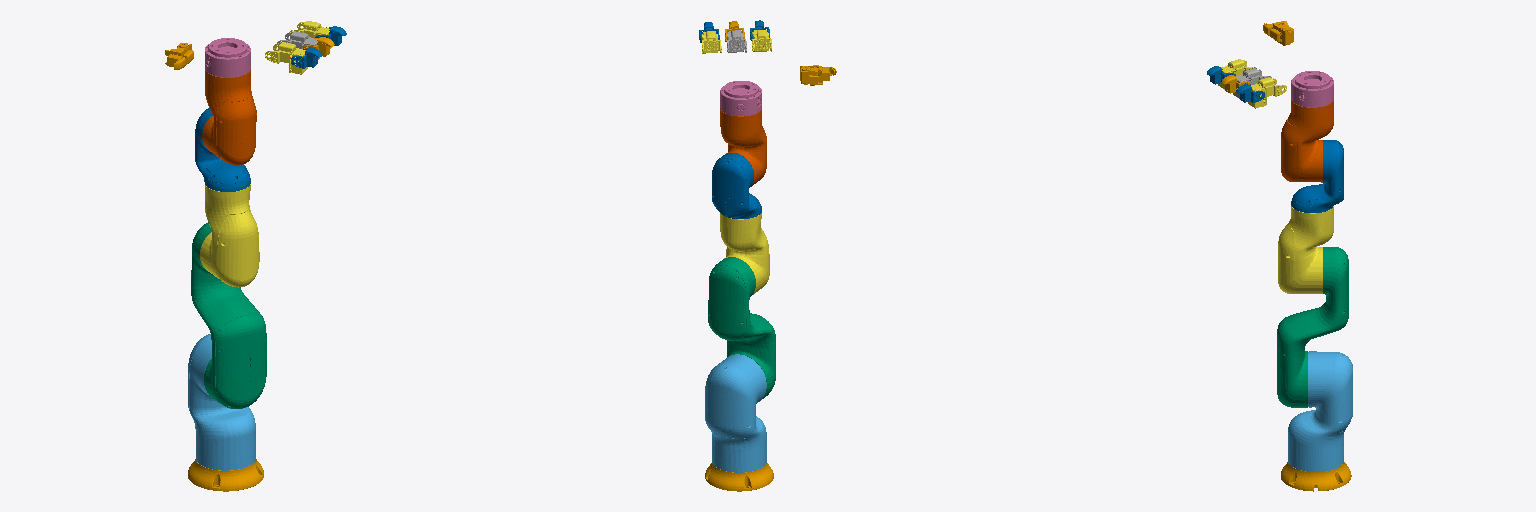
--- Render facts (derived) ---
Views: 3 orthographic renders of the robot side by side, from view 1: azimuth 30°, elevation 25°; view 2: azimuth 150°, elevation 25°; view 3: azimuth 270°, elevation 25°.
Model jakamini_leaphand with 33 links and 32 joints (22 revolute, 10 fixed), rooted at Link_0, posed every joint at zero.
Links seen in each view (by area): view 1: Link_2, Link_1, Link_3, Link_5, Link_4, Link_6, Link_0, dip, thumb_fingertip; view 2: Link_1, Link_2, Link_4, Link_3, Link_5, Link_6, Link_0, thumb_fingertip; view 3: Link_1, Link_2, Link_3, Link_5, Link_4, Link_6, Link_0, dip_3, thumb_fingertip.
Boxes of the visible links, left/top/right/bottom form: Link_2: left=191, top=222, right=266, bottom=408; Link_1: left=188, top=334, right=255, bottom=470; Link_3: left=200, top=184, right=259, bottom=287; Link_5: left=202, top=70, right=256, bottom=165; Link_4: left=195, top=108, right=250, bottom=191; Link_6: left=205, top=38, right=250, bottom=77; Link_0: left=188, top=459, right=263, bottom=491; dip: left=265, top=42, right=307, bottom=74; thumb_fingertip: left=165, top=43, right=193, bottom=69; Link_1: left=705, top=354, right=766, bottom=472; Link_2: left=708, top=257, right=775, bottom=398; Link_4: left=712, top=153, right=761, bottom=218; Link_3: left=720, top=213, right=769, bottom=294; Link_5: left=720, top=109, right=766, bottom=186; Link_6: left=720, top=81, right=761, bottom=115; Link_0: left=705, top=463, right=773, bottom=491; thumb_fingertip: left=800, top=65, right=836, bottom=85; Link_1: left=1288, top=351, right=1352, bottom=471; Link_2: left=1277, top=247, right=1348, bottom=407; Link_3: left=1278, top=206, right=1333, bottom=293; Link_5: left=1281, top=100, right=1333, bottom=182; Link_4: left=1291, top=140, right=1343, bottom=212; Link_6: left=1291, top=71, right=1333, bottom=107; Link_0: left=1281, top=462, right=1351, bottom=491; dip_3: left=1248, top=77, right=1286, bottom=108; thumb_fingertip: left=1263, top=21, right=1293, bottom=45.
Bounding box of the posed robot: 0.2972 × 0.2559 × 0.8152 m (x, y, z).
Meshes: 15 distinct files referenced, 14 mesh visuals loaded (7 binary STL, 3 OBJ); not drawn: 10 (reference not matched to a file when rendering).

URDF robot description (jakamini_leaphand):
<?xml version='1.0' encoding='UTF-8'?>
<robot name="jakamini_leaphand">
  <!-- jakamini -->
  <link name="Link_0">
    <inertial>
      <origin xyz="-0.000169872459617813 -2.36448827889745e-08 0.0132846923173683" rpy="0.0 0.0 0.0"/>
      <mass value="0.76174"/>
      <inertia ixx="0.000673719313504642" ixy="-1.30755705487849e-08" ixz="-1.3262407834936e-06" iyy="0.000666781851440875" iyz="-1.80735801539484e-11" izz="0.00123663316539255"/>
    </inertial>
    <visual>
      <geometry>
        <mesh filename="meshes/jaka/Link0.STL"/>
      </geometry>
      <material name="Link_0_material"/>
      <origin xyz="0.0 0.0 0.0" rpy="0.0 0.0 0.0"/>
    </visual>
    <collision>
      <geometry>
        <mesh filename="meshes/jaka/Link0.STL"/>
      </geometry>
      <origin xyz="0.0 0.0 0.0" rpy="0.0 0.0 0.0"/>
    </collision>
  </link>
  <link name="Link_1">
    <inertial>
      <origin xyz="-1.99985037409469e-06 0.0134079971540169 -0.061631393869219" rpy="0.0 0.0 0.0"/>
      <mass value="3.1571"/>
      <inertia ixx="0.0128375469787325" ixy="2.28361925094216e-07" ixz="5.81760635898215e-08" iyy="0.0126762000445666" iyz="-0.00161037595218336" izz="0.00390574573183596"/>
    </inertial>
    <visual>
      <geometry>
        <mesh filename="meshes/jaka/Link1.STL"/>
      </geometry>
      <material name="Link_1_material"/>
      <origin xyz="0.0 0.0 0.0" rpy="0.0 0.0 0.0"/>
    </visual>
    <collision>
      <geometry>
        <mesh filename="meshes/jaka/Link1.STL"/>
      </geometry>
      <origin xyz="0.0 0.0 0.0" rpy="0.0 0.0 0.0"/>
    </collision>
  </link>
  <link name="Link_2">
    <inertial>
      <origin xyz="0.090613 -1.3771e-06 0.0043964" rpy="0.0 0.0 0.0"/>
      <mass value="1.0141"/>
      <inertia ixx="0.0019174" ixy="6.2208e-07" ixz="0.0022687" iyy="0.0073149" iyz="-3.3214e-07" izz="0.0064681"/>
    </inertial>
    <visual>forearm_index
      <geometry>
        <mesh filename="meshes/jaka/Link2.STL"/>
      </geometry>
      <material name="Link_2_material"/>
      <origin xyz="0.0 0.0 0.0" rpy="0.0 0.0 0.0"/>
    </visual>
    <collision>
      <geometry>
        <mesh filename="meshes/jaka/Link2.STL"/>
      </geometry>
      <origin xyz="0.0 0.0 0.0" rpy="0.0 0.0 0.0"/>
    </collision>
  </link>
  <link name="Link_3">
    <inertial>
      <origin xyz="-2.836e-07 0.042086 0.012428" rpy="0.0 0.0 0.0"/>
      <mass value="2.018"/>
      <inertia ixx="0.0055107" ixy="2.2287e-08" ixz="-3.4784e-08" iyy="0.0017496" iyz="0.0005528" izz="0.0052708"/>
    </inertial>
    <visual>
      <geometry>
        <mesh filename="meshes/jaka/Link3.STL"/>
      </geometry>
      <material name="Link_3_material"/>
      <origin xyz="0.0 0.0 0.0" rpy="0.0 0.0 0.0"/>
    </visual>
    <collision>
      <geometry>
        <mesh filename="meshes/jaka/Link3.STL"/>
      </geometry>
      <origin xyz="0.0 0.0 0.0" rpy="0.0 0.0 0.0"/>
    </collision>
  </link>
  <link name="Link_4">
    <inertial>
      <origin xyz="-5.23366787087349e-06 0.025945911865393 -0.0349284126752025" rpy="0.0 0.0 0.0"/>
      <mass value="0.412340000009804"/>
      <inertia ixx="0.000648308078586465" ixy="2.01279577389176e-08" ixz="-2.91846428270101e-08" iyy="0.000622438484108618" iyz="-0.000147788635079694" izz="0.000313549566736677"/>
    </inertial>
    <visual>
      <geometry>
        <mesh filename="meshes/jaka/Link4.STL"/>
      </geometry>
      <material name="Link_4_material"/>
      <origin xyz="0.0 0.0 0.0" rpy="0.0 0.0 0.0"/>
    </visual>
    <collision>
      <geometry>
        <mesh filename="meshes/jaka/Link4.STL"/>
      </geometry>
      <origin xyz="0.0 0.0 0.0" rpy="0.0 0.0 0.0"/>
    </collision>
  </link>
  <link name="Link_5">
    <inertial>
      <origin xyz="8.7254e-06 0.044553 0.010268" rpy="0.0 0.0 0.0"/>
      <mass value="1.6793"/>
      <inertia ixx="0.0040718" ixy="4.0506e-07" ixz="1.0998e-07" iyy="0.0013014" iyz="0.00040116" izz="0.0039042"/>
    </inertial>
    <visual>
      <geometry>
        <mesh filename="meshes/jaka/Link5.STL"/>
      </geometry>
      <material name="Link_5_material"/>
      <origin xyz="0.0 0.0 0.0" rpy="0.0 0.0 0.0"/>
    </visual>
    <collision>
      <geometry>
        <mesh filename="meshes/jaka/Link5.STL"/>
      </geometry>
      <origin xyz="0.0 0.0 0.0" rpy="0.0 0.0 0.0"/>
    </collision>
  </link>
  <link name="Link_6">
    <inertial>
      <origin xyz="-2.33954680956047e-05 3.42676856690269e-05 -0.0202928698270544" rpy="0.0 0.0 0.0"/>
      <mass value="0.311970001247665"/>
      <inertia ixx="0.00014377819366" ixy="-8.50913479195225e-07" ixz="-2.37501745813128e-07" iyy="0.000142682702873271" iyz="-3.26920852568197e-08" izz="0.000221812602025683"/>
    </inertial>
    <visual>
      <geometry>
        <mesh filename="meshes/jaka/Link6.STL"/>
      </geometry>
      <material name="Link_6_material"/>
      <origin xyz="0.0 0.0 0.0" rpy="0.0 0.0 0.0"/>
    </visual>
    <collision>
      <geometry>
        <mesh filename="meshes/jaka/Link6.STL"/>
      </geometry>
      <origin xyz="0.0 0.0 0.0" rpy="0.0 0.0 0.0"/>
    </collision>
  </link>

  <joint name="joint_1" type="revolute">
    <limit effort="100.0" velocity="1.57" lower="-6.28" upper="6.28"/>
    <parent link="Link_0"/>
    <child link="Link_1"/>
    <axis xyz="0. 0. 1."/>
    <origin xyz="0.0 0.0 0.187" rpy="0.0 0.0 0.0"/>
  </joint>
  <joint name="joint_2" type="revolute">
    <limit effort="100.0" velocity="1.57" lower="-2.09" upper="2.09"/>
    <parent link="Link_1"/>
    <child link="Link_2"/>
    <axis xyz="0. 0. 1."/>
    <origin xyz="0.0 -0.006 0.0" rpy="-1.5707926535897934 -1.5707926535755432 -3.141592653589793"/>
  </joint>
  <joint name="joint_3" type="revolute">
    <limit effort="100.0" velocity="1.57" lower="-2.27" upper="2.27"/>
    <parent link="Link_2"/>
    <child link="Link_3"/>
    <axis xyz="0. 0. 1."/>
    <origin xyz="0.21 0.0 0.0" rpy="0.0 0.0 -1.5708"/>
  </joint>
  <joint name="joint_4" type="revolute">
    <limit effort="100.0" velocity="1.57" lower="-6.28" upper="6.28"/>
    <parent link="Link_3"/>
    <child link="Link_4"/>
    <axis xyz="0. 0. 1."/>
    <origin xyz="0.0 0.2105 0.0" rpy="-1.5708 0.0 0.0"/>
  </joint>
  <joint name="joint_5" type="revolute">
    <limit effort="100.0" velocity="1.57" lower="-2.09" upper="2.09"/>
    <parent link="Link_4"/>
    <child link="Link_5"/>
    <axis xyz="0. 0. 1."/>
    <origin xyz="0.0 0.0 0.0" rpy="1.5708 0.0 0.0"/>
  </joint>
  <joint name="joint_6" type="revolute">
    <limit effort="100.0" velocity="1.57" lower="-6.28" upper="6.28"/>
    <parent link="Link_5"/>
    <child link="Link_6"/>
    <axis xyz="0. 0. 1."/>
    <origin xyz="0.0 0.1593 0.0" rpy="-1.5708 0.0 0.0"/>
  </joint>

  <!-- leaphand -->
  <link name="base"/>
  <joint name="base_joint" type="fixed">
    <parent link="base"/>
    <child link="palm_lower"/>
    <origin xyz="0.01 0.038 0.058" rpy="0 -1.57079 0"/>
  </joint>

   <!-- <link name="thumb_base"/>
  <joint name="thumb_base_joint" type="fixed">
    <parent link="base"/>
    <child link="thumb_base"/>
    <origin xyz="0 0.037 0.015" rpy="0 0 0"/>
  </joint>

  <link name="index_base"/>
  <joint name="index_base_joint" type="fixed">
    <parent link="base"/>
    <child link="index_base"/>
    <origin xyz="0 0.045 0.09" rpy="0 0 0"/>
  </joint>

  <link name="middle_base"/>
  <joint name="middle_base_joint" type="fixed">
    <parent link="base"/>
    <child link="middle_base"/>
    <origin xyz="0 -0.0 0.09" rpy="0 0 0"/>
  </joint>

  <link name="ring_base"/>
  <joint name="ring_base_joint" type="fixed">
    <parent link="base"/>
    <child link="ring_base"/>
    <origin xyz="0 -0.045 0.09" rpy="0 0 0"/>
  </joint> -->

  <link name="palm_lower">
    <visual>
      <origin xyz="-0.0200 0.02575 -0.0347" rpy="0 0 0"/>
      <geometry>
        <mesh filename="meshes/leap/visual/palm_lower.obj"/>
      </geometry>
    </visual>
    <collision>     <!-- palm_lower -->
      <origin xyz="-0.009 0.009 -0.011" rpy="0 0 0"/>
      <geometry>
        <box size="0.022 0.026 0.034"/>
      </geometry>
    </collision>
    <collision>
      <origin xyz="-0.009 -0.036 -0.011" rpy="0 0 0"/>
      <geometry>
        <box size="0.022 0.026 0.034"/>
      </geometry>
    </collision>
    <collision>
      <origin xyz="-0.009 -0.081 -0.011" rpy="0 0 0"/>
      <geometry>
        <box size="0.022 0.026 0.034"/>
      </geometry>
    </collision>
    <collision>
      <origin xyz="-0.066 -0.078 -0.0115" rpy="0 0 -0.2967"/>
      <geometry>
        <box size="0.058 0.02 0.046"/>
      </geometry>
    </collision>
    <collision>
      <origin xyz="-0.03 -0.035 -0.003" rpy="0 0 0"/>
      <geometry>
        <box size="0.02 0.12 0.03"/>
      </geometry>
    </collision>
    <collision>
      <origin xyz="-0.032 -0.035 -0.024" rpy="0 0.785 0"/>
      <geometry>
        <box size="0.01 0.12 0.02"/>
      </geometry>
    </collision>
    <collision>
      <origin xyz="-0.048 -0.033 -0.0115" rpy="0 0 0"/>
      <geometry>
        <box size="0.024 0.116 0.046"/>
      </geometry>
    </collision>
    <collision>
      <origin xyz="-0.078 -0.053 -0.0115" rpy="0 0 0"/>
      <geometry>
        <box size="0.044 0.052 0.046"/>
      </geometry>
    </collision>
    <collision>
      <origin xyz="-0.098 -0.009 -0.006" rpy="0 0 0"/>
      <geometry>
        <box size="0.004 0.036 0.034"/>
      </geometry>
    </collision>
    <collision>
      <origin xyz="-0.078 -0.003 0.01" rpy="0 0 0"/>
      <geometry>
        <box size="0.044 0.056 0.004"/>
      </geometry>
    </collision>
    <inertial>
      <origin xyz="0 0 0" rpy="0 0 0"/>
      <mass value="0.237"/>
      <inertia ixx="0.000354094" ixy="-0.000001193" ixz="-0.000002445" iyy="0.000260915" iyz="-0.000002905" izz="0.000529257"/>
    </inertial>
  </link>
  <link name="mcp_joint">
    <visual>
      <origin xyz="0.0084 0.0077 0.01465" rpy="0 0 0"/>
      <geometry>
        <mesh filename="meshes/leap/visual/mcp_joint.obj"/>
      </geometry>
    </visual>
    <collision>      <!-- mcp_joint -->
      <origin xyz="0 0.018 0.0147" rpy="0 0 0"/>
      <geometry>
        <box size="0.02 0.006 0.034"/>
      </geometry>
    </collision>
    <collision>
      <origin xyz="-0.027 0.042 0.015" rpy="0 0 0"/>
      <geometry>
        <box size="0.028 0.04 0.02"/>
      </geometry>
    </collision>
    <collision>
      <origin xyz="-0.0262 0.02 0.0146" rpy="0 0 0"/>
      <geometry>
        <box size="0.034 0.006 0.02"/>
      </geometry>
    </collision>
    <collision>
      <origin xyz="-0.0295 0.035 0.029" rpy="0 0 0"/>
      <geometry>
        <box size="0.02 0.024 0.008"/>
      </geometry>
    </collision>
    <collision>
      <origin xyz="0 0.005 0.03" rpy="0 0 0"/>
      <geometry>
        <box size="0.014 0.02 0.004"/>
      </geometry>
    </collision>
    <collision>
      <origin xyz="0 0.005 -0.001" rpy="0 0 0"/>
      <geometry>
        <box size="0.014 0.02 0.004"/>
      </geometry>
    </collision>
    <inertial>
      <origin xyz="0 0 0" rpy="0 0 0"/>
      <mass value="0.044"/>
      <inertia ixx="0.000011499" ixy="0.000003049" ixz="0.000000121" iyy="0.000007796" iyz="0.000000112" izz="0.000014759"/>
    </inertial>
  </link>
  <link name="pip">
    <visual>
      <origin xyz="0.0096 0.0002 0.0007" rpy="-1.57079 -1.57079 0"/>
      <geometry>
        <mesh filename="meshes/leap/visual/pip.obj"/>
      </geometry>
    </visual>
    <collision>     <!-- pip -->
      <origin xyz="0.0075 -0.0002 -0.011" rpy="0 0 0"/>
      <geometry>
        <box size="0.034 0.026 0.022"/>
      </geometry>
    </collision>
    <inertial>
      <origin xyz="0 0 0" rpy="0 0 0"/>
      <mass value="0.032"/>
      <inertia ixx="0.000004798" ixy="0.000000012" ixz="0.000000004" iyy="0.000002862" iyz="0.000000011" izz="0.000004234"/>
    </inertial>
  </link>
  <link name="dip">
    <visual>
      <origin xyz="0.0211 -0.0084 0.0097" rpy="-3.1415926 0 0"/>
      <geometry>
        <mesh filename="meshes/leap/visual/dip_new_convex.obj"/>
      </geometry>
    </visual>
    <collision>     <!-- dip -->
      <origin xyz="0 -0.02 0.015" rpy="0 0 0"/>
      <geometry>
        <box size="0.016 0.006 0.026"/>
      </geometry>
    </collision>
    <collision>
      <origin xyz="0 -0.016 0.015" rpy="0 0 0"/>
      <geometry>
        <box size="0.02 0.004 0.034"/>
      </geometry>
    </collision>
    <collision>
      <origin xyz="0 -0.0045 0.03" rpy="0 0 0"/>
      <geometry>
        <box size="0.014 0.02 0.004"/>
      </geometry>
    </collision>
    <collision>
      <origin xyz="0 -0.0045 0" rpy="0 0 0"/>
      <geometry>
        <box size="0.014 0.02 0.004"/>
      </geometry>
    </collision>
    <collision>
      <origin xyz="0.0075 -0.035 0.015" rpy="0 0 0"/>
      <geometry>
        <box size="0.034 0.022 0.026"/>
      </geometry>
    </collision>
    <inertial>
      <origin xyz="0 0 0" rpy="0 0 0"/>
      <mass value="0.037"/>
      <inertia ixx="0.000005542" ixy="-0.000000607" ixz="-0.000000017" iyy="0.000005727" iyz="-0.000000023" izz="0.000006682"/>
    </inertial>
  </link>
  <link name="fingertip">
    <visual>
      <origin xyz="0.0132 -0.0061 0.0144" rpy="3.1415926 0 0"/>
      <geometry>
        <mesh filename="meshes/leap/visual/fingertip_new_convex.obj"/>
      </geometry>
    </visual>
    <collision>     <!-- fingertip -->
      <origin xyz="0.0132 -0.0061 0.0144" rpy="3.1415926 0 0"/>
      <geometry>
        <mesh filename="meshes/leap/visual/fingertip_new_convex.obj"/>
      </geometry>
    </collision>
    <!-- <collision>
      <origin xyz="0 -0.006 0.03" rpy="0 0 0"/>
      <geometry>
        <box size="0.014 0.022 0.004"/>
      </geometry>
    </collision>
    <collision>
      <origin xyz="0 -0.006 -0.001" rpy="0 0 0"/>
      <geometry>
        <box size="0.014 0.022 0.004"/>
      </geometry>
    </collision>
    <collision>
      <origin xyz="0 0 0" rpy="0 0 0"/>
      <geometry>
        <mesh filename="meshes/leap/collision/white_tip.obj"/>
      </geometry>
    </collision> -->
    <inertial>
      <origin xyz="0 0 0" rpy="0 0 0"/>
      <mass value="0.016"/>
      <inertia ixx="0.000003368" ixy="0.000000115" ixz="0" iyy="0.000001556" iyz="0" izz="0.000002863"/>
    </inertial>
  </link>

  <joint name="0" type="revolute">
    <origin xyz="-0.0070 0.0230 -0.0187" rpy="1.57079 1.57079 0"/>
    <parent link="palm_lower"/>
    <child link="mcp_joint"/>
    <axis xyz="0 0 -1"/>
    <limit effort="0.95" velocity="8.48" lower="-0.314" upper="2.23"/>
    <joint_properties friction="0.0"/>
  </joint>
  <joint name="1" type="revolute">
    <origin xyz="-0.0122 0.03810 0.01450" rpy="-1.57079 0 1.57079"/>
    <parent link="mcp_joint"/>
    <child link="pip"/>
    <axis xyz="0 0 -1"/>
    <limit effort="0.95" velocity="8.48" lower="-1.047" upper="1.047"/>
    <joint_properties friction="0.0"/>
  </joint>
  <joint name="2" type="revolute">
    <origin xyz="0.015 0.0143 -0.013" rpy="1.57079 -1.57079 0"/>
    <parent link="pip"/>
    <child link="dip"/>
    <axis xyz="0 0 -1"/>
    <limit effort="0.95" velocity="8.48" lower="-0.506" upper="1.3"/> <!-- temporal fix because can collide with part and cause tactile false read -->
    <joint_properties friction="0.0"/>
  </joint>
  <joint name="3" type="revolute">
    <origin xyz="0 -0.0461 0.0002" rpy="0 0 0"/>
    <parent link="dip"/>
    <child link="fingertip"/>
    <axis xyz="0 0 -1"/>
    <limit effort="0.95" velocity="8.48" lower="-0.366" upper="2.042"/>
    <joint_properties friction="0.0"/>
  </joint>

  <link name="mcp_joint_2">
    <visual>
      <origin xyz="0.0084 0.0077 0.01465" rpy="0 0 0"/>
      <geometry>
        <mesh filename="meshes/leap/visual/mcp_joint.obj"/>
      </geometry>
    </visual>
    <collision>      <!-- mcp_joint -->
      <origin xyz="0 0.018 0.0147" rpy="0 0 0"/>
      <geometry>
        <box size="0.02 0.006 0.034"/>
      </geometry>
    </collision>
    <collision>
      <origin xyz="-0.027 0.042 0.015" rpy="0 0 0"/>
      <geometry>
        <box size="0.028 0.04 0.02"/>
      </geometry>
    </collision>
    <collision>
      <origin xyz="-0.0262 0.02 0.0146" rpy="0 0 0"/>
      <geometry>
        <box size="0.034 0.006 0.02"/>
      </geometry>
    </collision>
    <collision>
      <origin xyz="-0.0295 0.035 0.029" rpy="0 0 0"/>
      <geometry>
        <box size="0.02 0.024 0.008"/>
      </geometry>
    </collision>
    <collision>
      <origin xyz="0 0.005 0.03" rpy="0 0 0"/>
      <geometry>
        <box size="0.014 0.02 0.004"/>
      </geometry>
    </collision>
    <collision>
      <origin xyz="0 0.005 -0.001" rpy="0 0 0"/>
      <geometry>
        <box size="0.014 0.02 0.004"/>
      </geometry>
    </collision>
    <inertial>
      <origin xyz="0 0 0" rpy="0 0 0"/>
      <mass value="0.044"/>
      <inertia ixx="0.000011499" ixy="0.000003049" ixz="0.000000121" iyy="0.000007796" iyz="0.000000112" izz="0.000014759"/>
    </inertial>
  </link>
  <link name="pip_2">
    <visual>
      <origin xyz="0.0096 0.0003 0.0007" rpy="-1.57079 -1.57079 0"/>
      <geometry>
        <mesh filename="meshes/leap/visual/pip.obj"/>
      </geometry>
    </visual>
    <collision>     <!-- pip -->
      <origin xyz="0.0075 -0.0002 -0.011" rpy="0 0 0"/>
      <geometry>
        <box size="0.034 0.026 0.022"/>
      </geometry>
    </collision>
    <inertial>
      <origin xyz="0 0 0" rpy="0 0 0"/>
      <mass value="0.032"/>
      <inertia ixx="0.000004798" ixy="0.000000012" ixz="0.000000004" iyy="0.000002862" iyz="0.000000011" izz="0.000004234"/>
    </inertial>
  </link>
  <link name="dip_2">
    <visual>
      <origin xyz="0.0211 -0.0084 0.0097" rpy="-3.14159 0 0"/>
      <geometry>
        <mesh filename="meshes/leap/visual/dip_new_convex.obj"/>
      </geometry>
    </visual>
    <collision>     <!-- dip -->
      <origin xyz="0 -0.02 0.015" rpy="0 0 0"/>
      <geometry>
        <box size="0.016 0.006 0.026"/>
      </geometry>
    </collision>
    <collision>
      <origin xyz="0 -0.016 0.015" rpy="0 0 0"/>
      <geometry>
        <box size="0.02 0.004 0.034"/>
      </geometry>
    </collision>
    <collision>
      <origin xyz="0 -0.0045 0.03" rpy="0 0 0"/>
      <geometry>
        <box size="0.014 0.02 0.004"/>
      </geometry>
    </collision>
    <collision>
      <origin xyz="0 -0.0045 0" rpy="0 0 0"/>
      <geometry>
        <box size="0.014 0.02 0.004"/>
      </geometry>
    </collision>
    <collision>
      <origin xyz="0.0075 -0.035 0.015" rpy="0 0 0"/>
      <geometry>
        <box size="0.034 0.022 0.026"/>
      </geometry>
    </collision>
    <inertial>
      <origin xyz="0 0 0" rpy="0 0 0"/>
      <mass value="0.037"/>
      <inertia ixx="0.000005542" ixy="-0.000000607" ixz="-0.000000017" iyy="0.000005727" iyz="-0.000000023" izz="0.000006682"/>
    </inertial>
  </link>
  <link name="fingertip_2">
    <visual>
      <origin xyz="0.0132 -0.0061 0.01450" rpy="3.1415926 0 0"/>
      <geometry>
        <mesh filename="meshes/leap/visual/fingertip_new_convex.obj"/>
      </geometry>
    </visual>
    <collision>     <!-- fingertip -->
      <origin xyz="0.0132 -0.0061 0.01450" rpy="3.1415926 0 0"/>
      <geometry>
        <mesh filename="meshes/leap/visual/fingertip_new_convex.obj"/>
      </geometry>
    </collision>
    <!-- <visual>
      <origin xyz="0.0132 -0.0061 0.01450" rpy="3.14159 0 0"/>
      <geometry>
        <mesh filename="meshes/leap/visual/fingertip.obj"/>
      </geometry>
    </visual>
    <collision>  
      <origin xyz="0 -0.017 0.015" rpy="0 0 0"/>
      <geometry>
        <box size="0.02 0.006 0.03"/>
      </geometry>
    </collision>
    <collision>
      <origin xyz="0 -0.006 0.03" rpy="0 0 0"/>
      <geometry>
        <box size="0.014 0.022 0.004"/>
      </geometry>
    </collision>
    <collision>
      <origin xyz="0 -0.006 -0.001" rpy="0 0 0"/>
      <geometry>
        <box size="0.014 0.022 0.004"/>
      </geometry>
    </collision>
    <collision>
      <origin xyz="0 0 0" rpy="0 0 0"/>
      <geometry>
        <mesh filename="meshes/leap/collision/white_tip.obj"/>
      </geometry>
    </collision> -->
    <inertial>
      <origin xyz="0 0 0" rpy="0 0 0"/>
      <mass value="0.016"/>
      <inertia ixx="0.000003368" ixy="0.000000115" ixz="0" iyy="0.000001556" iyz="0" izz="0.000002863"/>
    </inertial>
  </link>
  
  <joint name="4" type="revolute">
    <origin xyz="-0.0071 -0.0224 -0.0187" rpy="1.57079 1.57079 0"/>
    <parent link="palm_lower"/>
    <child link="mcp_joint_2"/>
    <axis xyz="0 0 -1"/>
    <limit effort="0.95" velocity="8.48" lower="-0.314" upper="2.23"/>
    <joint_properties friction="0.0"/>
  </joint>
  <joint name="5" type="revolute">
    <origin xyz="-0.0122 0.0381 0.0145" rpy="-1.57079 0 1.57079"/>
    <parent link="mcp_joint_2"/>
    <child link="pip_2"/>
    <axis xyz="0 0 -1"/>
    <limit effort="0.95" velocity="8.48" lower="-1.047" upper="1.047"/>
    <joint_properties friction="0.0"/>
  </joint>
  <joint name="6" type="revolute">
    <origin xyz="0.015 0.0143 -0.013" rpy="1.57079 -1.57079 0"/>
    <parent link="pip_2"/>
    <child link="dip_2"/>
    <axis xyz="0 0 -1"/>
    <limit effort="0.95" velocity="8.48" lower="-0.506" upper="1.3"/> <!-- temporal fix because can collide with part and cause tactile false read -->
    <joint_properties friction="0.0"/>
  </joint>
  <joint name="7" type="revolute">
    <origin xyz="0 -0.0461 0.0002" rpy="0 0 0"/>
    <parent link="dip_2"/>
    <child link="fingertip_2"/>
    <axis xyz="0 0 -1"/>
    <limit effort="0.95" velocity="8.48" lower="-0.366" upper="2.042"/>
    <joint_properties friction="0.0"/>
  </joint>
  <link name="mcp_joint_3">
    <visual>
      <origin xyz="0.0084 0.0077 0.01465" rpy="0 0 0"/>
      <geometry>
        <mesh filename="meshes/leap/visual/mcp_joint.obj"/>
      </geometry>
    </visual>
    <collision>      <!-- mcp_joint -->
      <origin xyz="0 0.018 0.0147" rpy="0 0 0"/>
      <geometry>
        <box size="0.02 0.006 0.034"/>
      </geometry>
    </collision>
    <collision>
      <origin xyz="-0.027 0.042 0.015" rpy="0 0 0"/>
      <geometry>
        <box size="0.028 0.04 0.02"/>
      </geometry>
    </collision>
    <collision>
      <origin xyz="-0.0262 0.02 0.0146" rpy="0 0 0"/>
      <geometry>
        <box size="0.034 0.006 0.02"/>
      </geometry>
    </collision>
    <collision>
      <origin xyz="-0.0295 0.035 0.029" rpy="0 0 0"/>
      <geometry>
        <box size="0.02 0.024 0.008"/>
      </geometry>
    </collision>
    <collision>
      <origin xyz="0 0.005 0.03" rpy="0 0 0"/>
      <geometry>
        <box size="0.014 0.02 0.004"/>
      </geometry>
    </collision>
    <collision>
      <origin xyz="0 0.005 -0.001" rpy="0 0 0"/>
      <geometry>
        <box size="0.014 0.02 0.004"/>
      </geometry>
    </collision>
    <inertial>
      <origin xyz="0 0 0" rpy="0 0 0"/>
      <mass value="0.044"/>
      <inertia ixx="0.000011499" ixy="0.000003049" ixz="0.000000121" iyy="0.000007796" iyz="0.000000112" izz="0.000014759"/>
    </inertial>
  </link>
  <link name="pip_3">
    <visual>
      <origin xyz="0.0096 0.0003 0.0007" rpy="-1.57079 -1.57079 0"/>
      <geometry>
        <mesh filename="meshes/leap/visual/pip.obj"/>
      </geometry>
    </visual>
    <collision>     <!-- pip -->
      <origin xyz="0.0075 -0.0002 -0.011" rpy="0 0 0"/>
      <geometry>
        <box size="0.034 0.026 0.022"/>
      </geometry>
    </collision>
    <inertial>
      <origin xyz="0 0 0" rpy="0 0 0"/>
      <mass value="0.032"/>
      <inertia ixx="0.000004798" ixy="0.000000012" ixz="0.000000004" iyy="0.000002862" iyz="0.000000011" izz="0.000004234"/>
    </inertial>
  </link>
  <link name="dip_3">
    <visual>
      <origin xyz="0.0211 -0.0084 0.0097" rpy="-3.14159 0 0"/>
      <geometry>
        <mesh filename="meshes/leap/visual/dip_new_convex.obj"/>
      </geometry>
    </visual>
    <collision>     <!-- dip -->
      <origin xyz="0 -0.02 0.015" rpy="0 0 0"/>
      <geometry>
        <box size="0.016 0.006 0.026"/>
      </geometry>
    </collision>
    <collision>
      <origin xyz="0 -0.016 0.015" rpy="0 0 0"/>
      <geometry>
        <box size="0.02 0.004 0.034"/>
      </geometry>
    </collision>
    <collision>
      <origin xyz="0 -0.0045 0.03" rpy="0 0 0"/>
      <geometry>
        <box size="0.014 0.02 0.004"/>
      </geometry>
    </collision>
    <collision>
      <origin xyz="0 -0.0045 0" rpy="0 0 0"/>
      <geometry>
        <box size="0.014 0.02 0.004"/>
      </geometry>
    </collision>
    <collision>
      <origin xyz="0.0075 -0.035 0.015" rpy="0 0 0"/>
      <geometry>
        <box size="0.034 0.022 0.026"/>
      </geometry>
    </collision>
    <inertial>
      <origin xyz="0 0 0" rpy="0 0 0"/>
      <mass value="0.037"/>
      <inertia ixx="0.000005542" ixy="-0.000000607" ixz="-0.000000017" iyy="0.000005727" iyz="-0.000000023" izz="0.000006682"/>
    </inertial>
  </link>
  <link name="fingertip_3">
    <visual>
      <origin xyz="0.0132 -0.0061 0.0145" rpy="3.1415926 0 0"/>
      <geometry>
        <mesh filename="meshes/leap/visual/fingertip_new_convex.obj"/>
      </geometry>
    </visual>
    <collision>     <!-- fingertip -->
      <origin xyz="0.0132 -0.0061 0.0145" rpy="3.1415926 0 0"/>
      <geometry>
        <mesh filename="meshes/leap/visual/fingertip_new_convex.obj"/>
      </geometry>
    </collision>
    <!-- <visual>
      <origin xyz="0.0132 -0.0061 0.0145" rpy="3.14159 0 0"/>
      <geometry>
        <mesh filename="meshes/leap/visual/fingertip.obj"/>
      </geometry>
    </visual>
    <collision> 
      <origin xyz="0 -0.017 0.015" rpy="0 0 0"/>
      <geometry>
        <box size="0.02 0.006 0.03"/>
      </geometry>
    </collision>
    <collision>
      <origin xyz="0 -0.006 0.03" rpy="0 0 0"/>
      <geometry>
        <box size="0.014 0.022 0.004"/>
      </geometry>
    </collision>
    <collision>
      <origin xyz="0 -0.006 -0.001" rpy="0 0 0"/>
      <geometry>
        <box size="0.014 0.022 0.004"/>
      </geometry>
    </collision>
    <collision>
      <origin xyz="0 0 0" rpy="0 0 0"/>
      <geometry>
        <mesh filename="meshes/leap/collision/white_tip.obj"/>
      </geometry>
    </collision> -->
    <inertial>
      <origin xyz="0 0 0" rpy="0 0 0"/>
      <mass value="0.016"/>
      <inertia ixx="0.000003368" ixy="0.000000115" ixz="0" iyy="0.000001556" iyz="0" izz="0.000002863"/>
    </inertial>
  </link>
  
  <joint name="8" type="revolute">
    <origin xyz="-0.00709 -0.0678 -0.0187" rpy="1.57079 1.57079 0"/>
    <parent link="palm_lower"/>
    <child link="mcp_joint_3"/>
    <axis xyz="0 0 -1"/>
    <limit effort="0.95" velocity="8.48" lower="-0.314" upper="2.23"/>
    <joint_properties friction="0.0"/>
  </joint>
  <joint name="9" type="revolute">
    <origin xyz="-0.0122 0.0381 0.0145" rpy="-1.57079 0 1.57079"/>
    <parent link="mcp_joint_3"/>
    <child link="pip_3"/>
    <axis xyz="0 0 -1"/>
    <limit effort="0.95" velocity="8.48" lower="-1.047" upper="1.047"/>
    <joint_properties friction="0.0"/>
  </joint>
  <joint name="10" type="revolute">
    <origin xyz="0.015 0.0143 -0.013" rpy="1.57079 -1.57079 0"/>
    <parent link="pip_3"/>
    <child link="dip_3"/>
    <axis xyz="0 0 -1"/>
    <limit effort="0.95" velocity="8.48" lower="-0.506" upper="1.3"/> <!-- temporal fix because can collide with part and cause tactile false read -->
    <joint_properties friction="0.0"/>
  </joint>
  <joint name="11" type="revolute">
    <origin xyz="0 -0.04609 0.0002" rpy="0 0 0"/>
    <parent link="dip_3"/>
    <child link="fingertip_3"/>
    <axis xyz="0 0 -1"/>
    <limit effort="0.95" velocity="8.48" lower="-0.366" upper="2.042"/>
    <joint_properties friction="0.0"/>
  </joint>
  <link name="pip_4">
    <visual>
      <origin xyz="-0.0053 0.0003 0.00078" rpy="-1.57079 -1.57079 0"/>
      <geometry>
        <mesh filename="meshes/leap/visual/pip.obj"/>
      </geometry>
    </visual>
    <collision>     <!-- pip -->
      <origin xyz="0.0075 -0.0002 -0.011" rpy="0 0 0"/>
      <geometry>
        <box size="0.034 0.026 0.022"/>
      </geometry>
    </collision>
    <inertial>
      <origin xyz="0 0 0" rpy="0 0 0"/>
      <mass value="0.032"/>
      <inertia ixx="0.000004798" ixy="0.000000012" ixz="0.000000004" iyy="0.000002862" iyz="0.000000011" izz="0.000004234"/>
    </inertial>
  </link>
  <link name="thumb_pip">
    <visual>
      <origin xyz="0.01196 0 -0.0158" rpy="1.57079 0 0"/>
      <geometry>
        <mesh filename="meshes/leap/visual/thumb_pip.obj"/>
      </geometry>
    </visual>
    <collision>     <!-- thumb_pip -->
      <origin xyz="0 0 -0.0015" rpy="0 0 0"/>
      <geometry>
        <box size="0.018 0.033 0.004"/>
      </geometry>
    </collision>
    <collision>
      <origin xyz="0 -0.015 -0.013" rpy="0 0 0"/>
      <geometry>
        <box size="0.014 0.004 0.02"/>
      </geometry>
    </collision>
    <collision>
      <origin xyz="0 0.015 -0.013" rpy="0 0 0"/>
      <geometry>
        <box size="0.014 0.004 0.02"/>
      </geometry>
    </collision>
    <inertial>
      <origin xyz="0 0 0" rpy="0 0 0"/>
      <mass value="0.003"/>
      <inertia ixx="0.000000593" ixy="0" ixz="0" iyy="0.000000549" iyz="0" izz="0.000000224"/>
    </inertial>
  </link>
  <link name="thumb_dip">
    <visual>
      <origin xyz="0.0439 0.0579 -0.0086" rpy="0 0 0"/>
      <geometry>
        <mesh filename="meshes/leap/visual/thumb_dip.obj"/>
      </geometry>
    </visual>
    <collision>     <!-- thumb_dip -->
      <origin xyz="0 0.0105 -0.014" rpy="0 0 0"/>
      <geometry>
        <box size="0.02 0.04 0.024"/>
      </geometry>
    </collision>
    <collision>
      <origin xyz="0 0.031 -0.015" rpy="0 0 0"/>
      <geometry>
        <box size="0.02 0.004 0.032"/>
      </geometry>
    </collision>
    <collision>
      <origin xyz="0 0.042 0.001" rpy="0 0 0"/>
      <geometry>
        <box size="0.014 0.02 0.004"/>
      </geometry>
    </collision>
    <collision>
      <origin xyz="0 0.042 -0.029" rpy="0 0 0"/>
      <geometry>
        <box size="0.014 0.02 0.004"/>
      </geometry>
    </collision>
    <collision>
      <origin xyz="-0.0135 0.0175 -0.011656" rpy="0 0 0"/>
      <geometry>
        <box size="0.01 0.024 0.018"/>
      </geometry>
    </collision>
    <inertial>
      <origin xyz="0 0 0" rpy="0 0 0"/>
      <mass value="0.038"/>
      <inertia ixx="0.000008474" ixy="0.000000241" ixz="0.000000026" iyy="0.000003841" iyz="0.000000025" izz="0.000007679"/>
    </inertial>
  </link>
  <link name="thumb_fingertip">
    <visual>
      <origin xyz="0.0625 0.0784 0.0489" rpy="0 0 0"/>
      <geometry>
        <mesh filename="meshes/leap/visual/thumb_fingertip_paxini_convex.obj"/>
      </geometry>
    </visual>
    <collision>     <!-- fingertip -->
      <origin xyz="0.0625 0.0784 0.0489" rpy="0 0 0"/>
      <geometry>
        <mesh filename="meshes/leap/visual/thumb_fingertip_paxini_convex.obj"/>
      </geometry>
    </collision>

    <!-- <visual>
      <origin xyz="0.0625 0.0784 0.0489" rpy="0 0 0"/>
      <geometry>
        <mesh filename="meshes/leap/visual/thumb_fingertip.obj"/>
      </geometry>
    </visual>
    <collision> 
      <origin xyz="0 -0.0085 -0.015" rpy="0 0 0"/>
      <geometry>
        <box size="0.02 0.036 0.024"/>
      </geometry>
    </collision>
    <collision>
      <origin xyz="0 -0.029 -0.014" rpy="0 0 0"/>
      <geometry>
        <box size="0.02 0.004 0.03"/>
      </geometry>
    </collision>
    <collision>
      <origin xyz="0.015 -0.0175 -0.0115" rpy="0 0 0"/>
      <geometry>
        <box size="0.008 0.024 0.018"/>
      </geometry>
    </collision>
    <collision>
      <origin xyz="0 0 0" rpy="0 0 0"/>
      <geometry>
        <mesh filename="meshes/leap/collision/white_tip_thumb.obj"/>
      </geometry>
    </collision> -->
    <inertial>
      <origin xyz="0 0 0" rpy="0 0 0"/>
      <mass value="0.049"/>
      <inertia ixx="0.000020372" ixy="-0.000000489" ixz="-0.00000003" iyy="0.000004336" iyz="-0.000000097" izz="0.000019845"/>
    </inertial>
  </link>
  <joint name="12" type="revolute">
    <origin xyz="-0.0693 -0.0012 -0.0216" rpy="0 1.57079 0"/>
    <parent link="palm_lower"/>
    <child link="pip_4"/>
    <axis xyz="0 0 -1"/>
    <limit effort="0.95" velocity="8.48" lower="-0.349" upper="2.094"/>
    <joint_properties friction="0.0"/>
  </joint>
  <joint name="13" type="revolute">
    <origin xyz="0 0.0143 -0.013" rpy="1.57079 -1.57079 0"/>
    <parent link="pip_4"/>
    <child link="thumb_pip"/>
    <axis xyz="0 0 -1"/>
    <limit effort="0.95" velocity="8.48" lower="-0.47" upper="2.443"/>
    <joint_properties friction="0.0"/>
  </joint>
  <joint name="14" type="revolute">
    <origin xyz="0 0.0145 -0.017" rpy="-1.57079 0 0"/>
    <parent link="thumb_pip"/>
    <child link="thumb_dip"/>
    <axis xyz="0 0 -1"/>
    <limit effort="0.95" velocity="8.48" lower="-1.20" upper="1.90"/>
    <joint_properties friction="0.0"/>
  </joint>
  <joint name="15" type="revolute">
    <origin xyz="0 0.0466 0.0002" rpy="0 0 3.14159"/>
    <parent link="thumb_dip"/>
    <child link="thumb_fingertip"/>
    <axis xyz="0 0 -1"/>
    <limit effort="0.95" velocity="8.48" lower="-1.34" upper="1.88"/>
    <joint_properties friction="0.0"/>
  </joint>

  <!--  virtual auxiliary link-->
  <!-- <link name="thumb_tip_head"/>
  <link name="index_tip_head"/>
  <link name="middle_tip_head"/>
  <link name="ring_tip_head"/>
  <joint name="thumb_tip" type="fixed">
    <parent link="thumb_fingertip"/>
    <child link="thumb_tip_head"/>
    <origin rpy="0 0 0" xyz="0 -0.059 -0.015"/>
  </joint>
  <joint name="index_tip" type="fixed">
    <parent link="fingertip"/>
    <child link="index_tip_head"/>
    <origin rpy="0 0 0" xyz="0 -0.047 0.015"/>
  </joint>
  <joint name="middle_tip" type="fixed">
    <parent link="fingertip_2"/>
    <child link="middle_tip_head"/>
    <origin rpy="0 0 0" xyz="0 -0.047 0.015"/>
  </joint>
  <joint name="ring_tip" type="fixed">
    <parent link="fingertip_3"/>
    <child link="ring_tip_head"/>
    <origin rpy="0 0 0" xyz="0 -0.047 0.015"/>
  </joint> -->

  <link name="thumb_dip_head"/>
  <link name="index_dip_head"/>
  <link name="middle_dip_head"/>
  <link name="ring_dip_head"/>
  <joint name="thumb_dip_retarget" type="fixed">
    <parent link="thumb_fingertip"/>
    <child link="thumb_dip_head"/>
    <origin xyz="0.0 0.0 -0.014" rpy="0 0 0"/>
  </joint>
  <joint name="index_dip_retarget" type="fixed">
    <parent link="fingertip"/>
    <child link="index_dip_head"/>
    <origin xyz="0.0 0.0 0.014" rpy="0 0 0"/>
  </joint>
  <joint name="middle_dip_retarget" type="fixed">
    <parent link="fingertip_2"/>
    <child link="middle_dip_head"/>
    <origin xyz="0.0 0.0 0.014" rpy="0 0 0"/>
  </joint>
  <joint name="ring_dip_retarget" type="fixed">
    <parent link="fingertip_3"/>
    <child link="ring_dip_head"/>
    <origin xyz="0.0 0.0 0.014" rpy="0 0 0"/>
  </joint>

  <!--  virtual auxiliary link-->
  <link name="thumb_tip_head"/>
  <link name="index_tip_head"/>
  <link name="middle_tip_head"/>
  <link name="ring_tip_head"/>
  <joint name="thumb_tip" type="fixed">
    <parent link="thumb_fingertip"/>
    <child link="thumb_tip_head"/>
    <origin rpy="0 0 0" xyz="-0.011 -0.033 -0.015"/>
  </joint>
  <joint name="index_tip" type="fixed">
    <parent link="fingertip"/>
    <child link="index_tip_head"/>
    <origin rpy="0 0 0" xyz="-0.011 -0.019 0.015"/>
  </joint>
  <joint name="middle_tip" type="fixed">
    <parent link="fingertip_2"/>
    <child link="middle_tip_head"/>
    <origin rpy="0 0 0" xyz="-0.011 -0.019 0.015"/>
  </joint>
  <joint name="ring_tip" type="fixed">
    <parent link="fingertip_3"/>
    <child link="ring_tip_head"/>
    <origin rpy="0 0 0" xyz="-0.011 -0.019 0.015"/>
  </joint>



  <joint name="mount_joint" type="fixed">
    <parent link="Link_6"/>
    <child link="base"/>
    <axis xyz="1. 0. 0."/>
    <origin xyz="0.0 0.0 0.0" rpy="3.141592653589793 -1.57 -0.97"/>
  </joint>

</robot>
